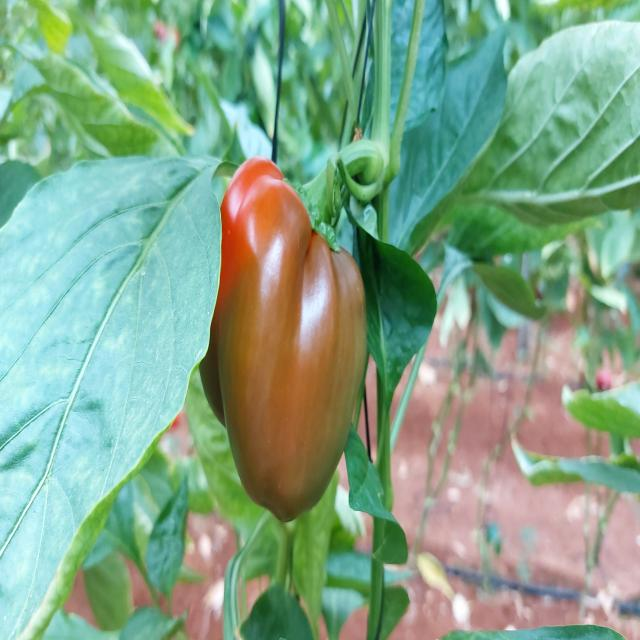BrownishRed--Can-be-Harvested: (220, 152, 371, 518)
